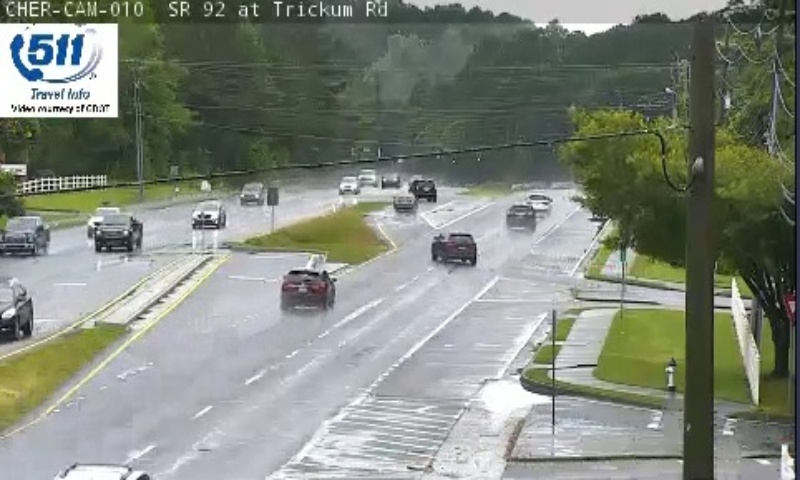car: (282, 268, 335, 306), (506, 203, 534, 229)
